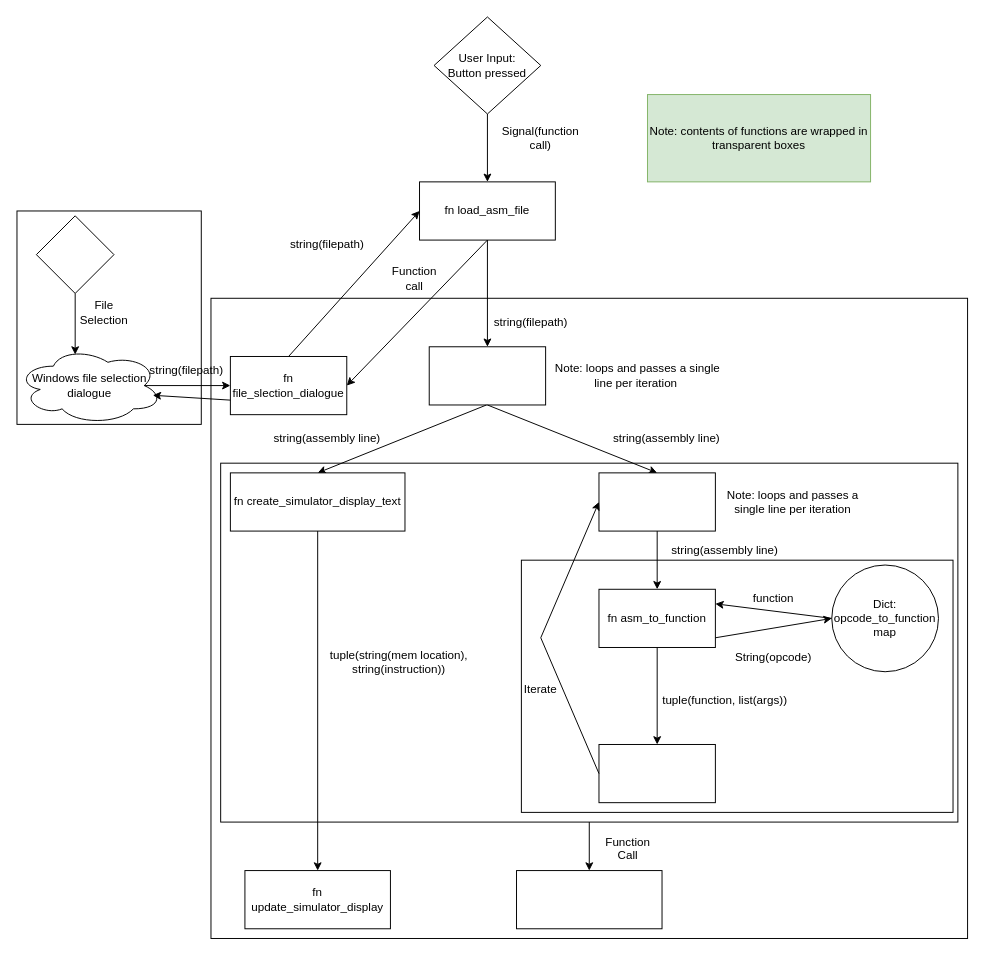
Some shapes in this 985 by 955 pixel diagram are drawn without their labels. The box of each missing label's shape, as (x1, y1, x2, y2) in pixels:
fn populate_queue: (598, 472, 715, 531)
fn Queue.enqueue: (598, 744, 715, 803)
fn read_asm_file: (428, 346, 546, 405)
fn widget_state_asm_loaded: (516, 870, 662, 929)
User Input: File Selection: (35, 215, 114, 293)
